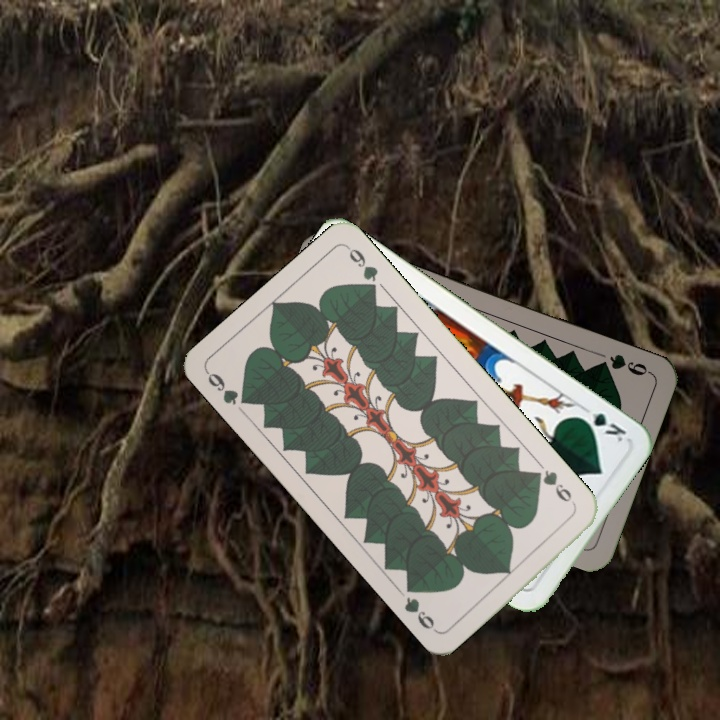G9: (529, 466, 579, 510), (202, 367, 255, 408), (593, 350, 653, 379)
GK: (574, 402, 629, 445)
